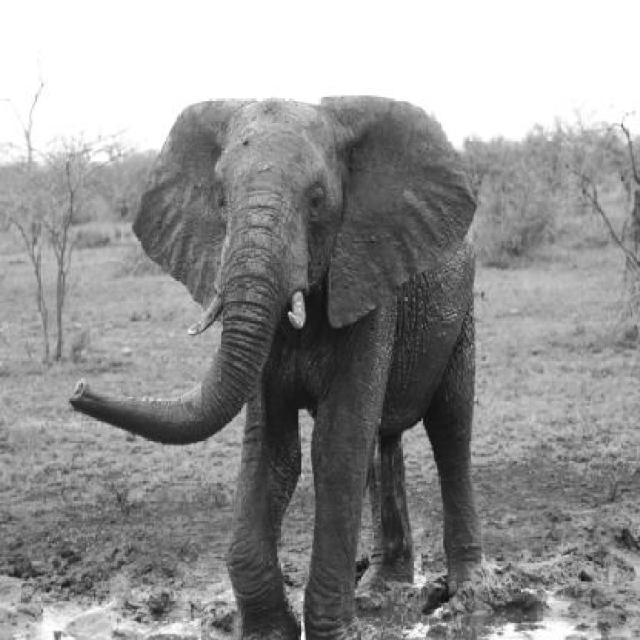Elephant: (65, 80, 488, 640)
